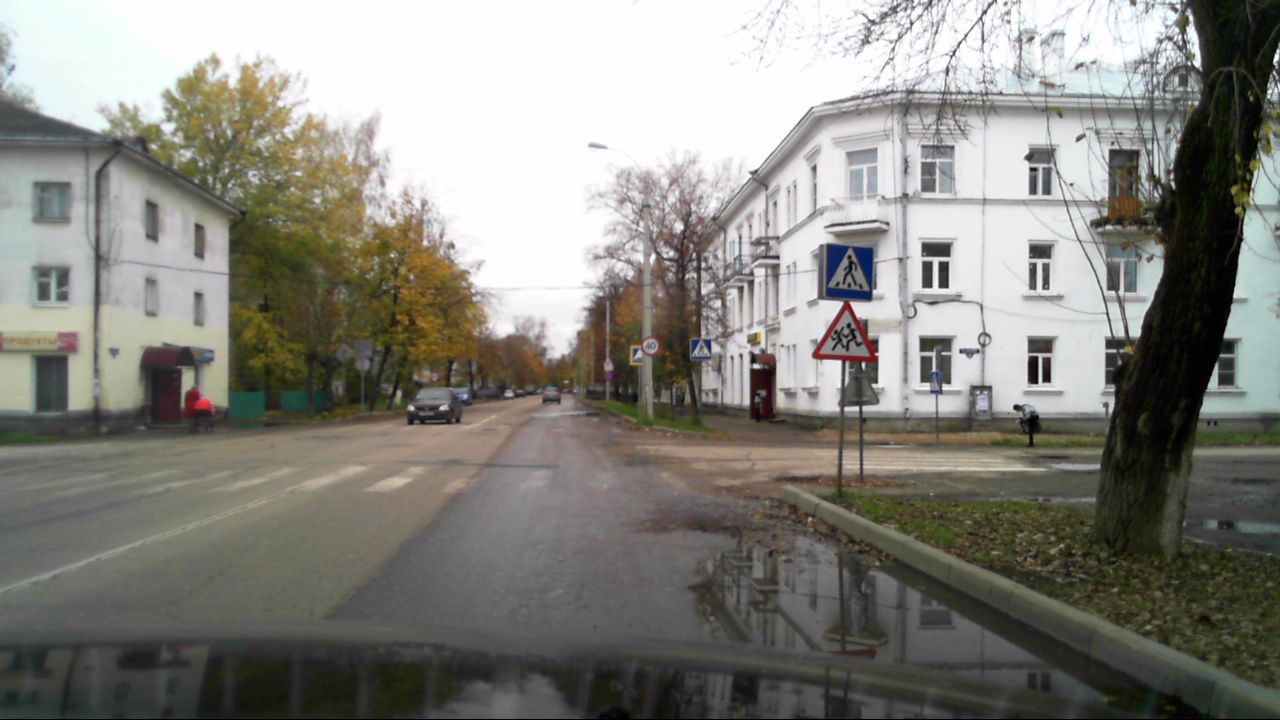speed_warning_40: (641, 336, 660, 356)
